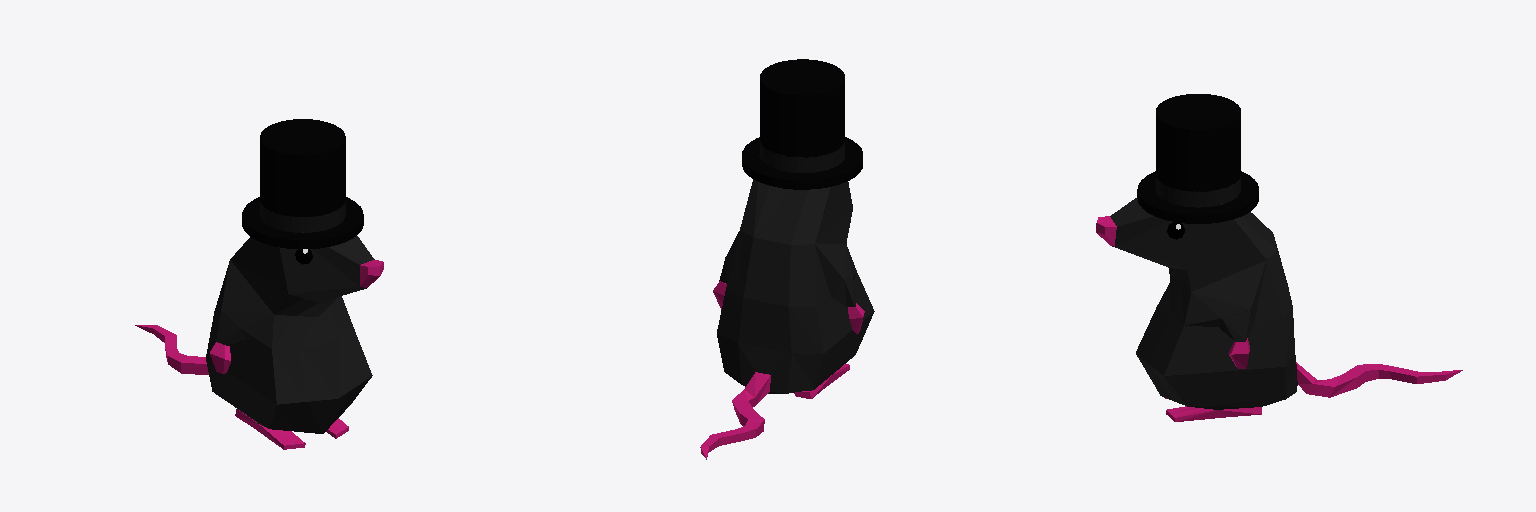
The model's file is RTg.obj.
The picture shows the model from 3 angles: view 1: azimuth 30°, elevation 25°; view 2: azimuth 150°, elevation 25°; view 3: azimuth 270°, elevation 25°; orthographic projection.
Parts seen in each view (by area): view 1: Rat.008_buffer-0-mesh-0.082, Top_hat_Cylinder, Top_hat_Inner_cylinder_Cylinder.001, Rleg.007_buffer-0-mesh-0.083, Rshoulder.006_buffer-0-mesh-0.085; view 2: Rat.008_buffer-0-mesh-0.082, Top_hat_Cylinder, Top_hat_Inner_cylinder_Cylinder.001; view 3: Rat.008_buffer-0-mesh-0.082, Top_hat_Cylinder, Top_hat_Inner_cylinder_Cylinder.001, Lleg.007_buffer-0-mesh-0.084, Lshoulder.006_buffer-0-mesh-0.086.
Boxes of the visible parts, box(x1,y1,x2,y2) form: Rat.008_buffer-0-mesh-0.082: box(135, 232, 383, 433); Top_hat_Cylinder: box(242, 119, 363, 249); Top_hat_Inner_cylinder_Cylinder.001: box(260, 201, 345, 232); Rleg.007_buffer-0-mesh-0.083: box(235, 409, 305, 449); Rshoulder.006_buffer-0-mesh-0.085: box(216, 311, 245, 345); Rat.008_buffer-0-mesh-0.082: box(700, 155, 874, 459); Top_hat_Cylinder: box(742, 59, 862, 189); Top_hat_Inner_cylinder_Cylinder.001: box(760, 142, 844, 172); Rat.008_buffer-0-mesh-0.082: box(1096, 198, 1462, 409); Top_hat_Cylinder: box(1137, 94, 1258, 223); Top_hat_Inner_cylinder_Cylinder.001: box(1156, 177, 1240, 207); Lleg.007_buffer-0-mesh-0.084: box(1166, 406, 1261, 421); Lshoulder.006_buffer-0-mesh-0.086: box(1219, 310, 1253, 341).
Bounding box in the file's own units: 1.15 × 2.28 × 2.59.